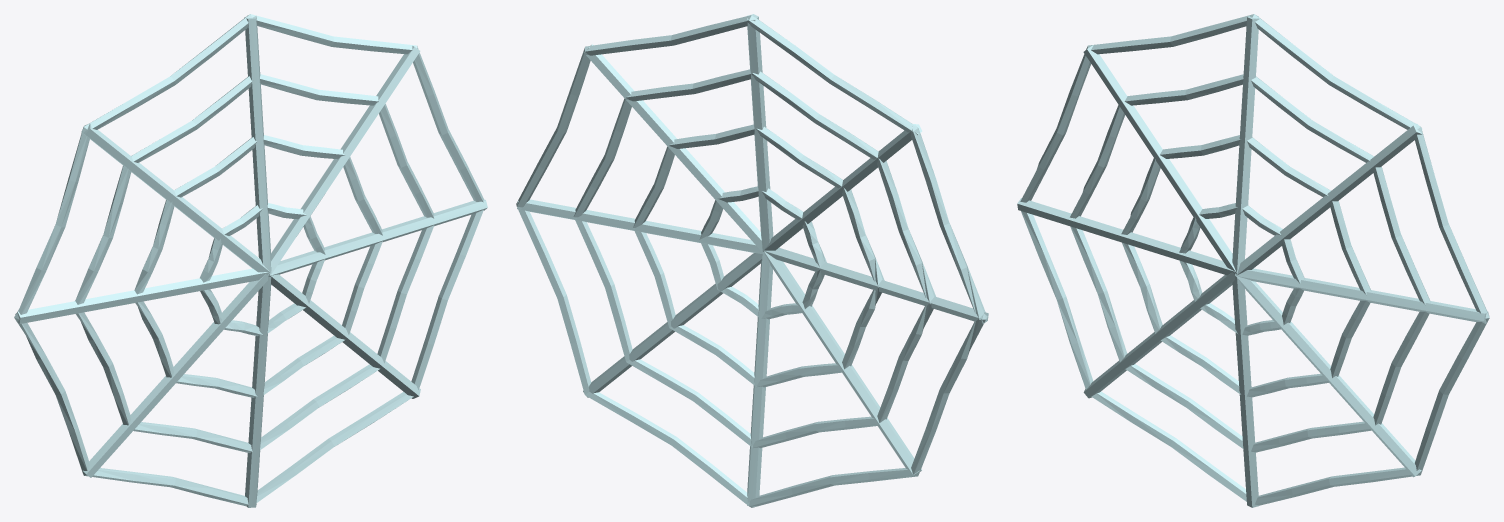
File: Web_Net.fbx
3 renders of one model, left to right at view 1: azimuth 30°, elevation 25°; view 2: azimuth 150°, elevation 25°; view 3: azimuth 330°, elevation 25°, orthographic.
Visible parts, largest first — view 1: Web_Net__Body__web_neon, Handle; view 2: Web_Net__Body__web_neon, Handle; view 3: Web_Net__Body__web_neon, Handle.
Part boxes in pixels (x1,y1,x2,y2): Web_Net__Body__web_neon: (14,14,483,507); Handle: (269,199,487,275); Web_Net__Body__web_neon: (516,14,988,507); Handle: (517,199,765,254); Web_Net__Body__web_neon: (1017,14,1489,507); Handle: (1236,268,1488,323).
Bounding box in the file's own units: 2.12 × 2.12 × 0.1726.
1 material, 1 textured.
